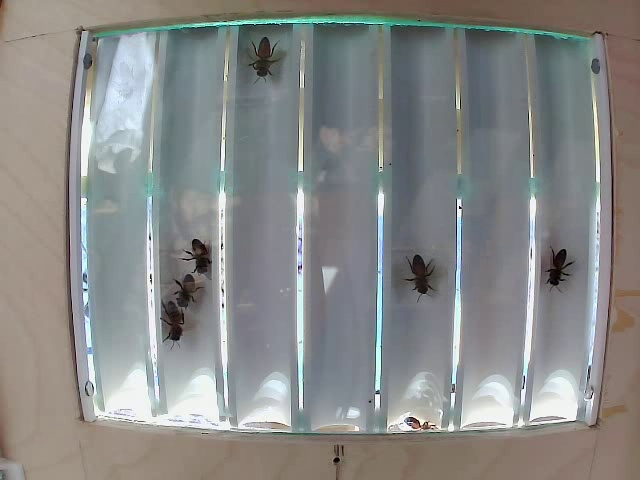bee: (193, 226, 233, 292), (405, 237, 441, 291), (152, 301, 195, 344), (536, 239, 569, 292), (170, 268, 206, 314), (254, 30, 285, 82)
